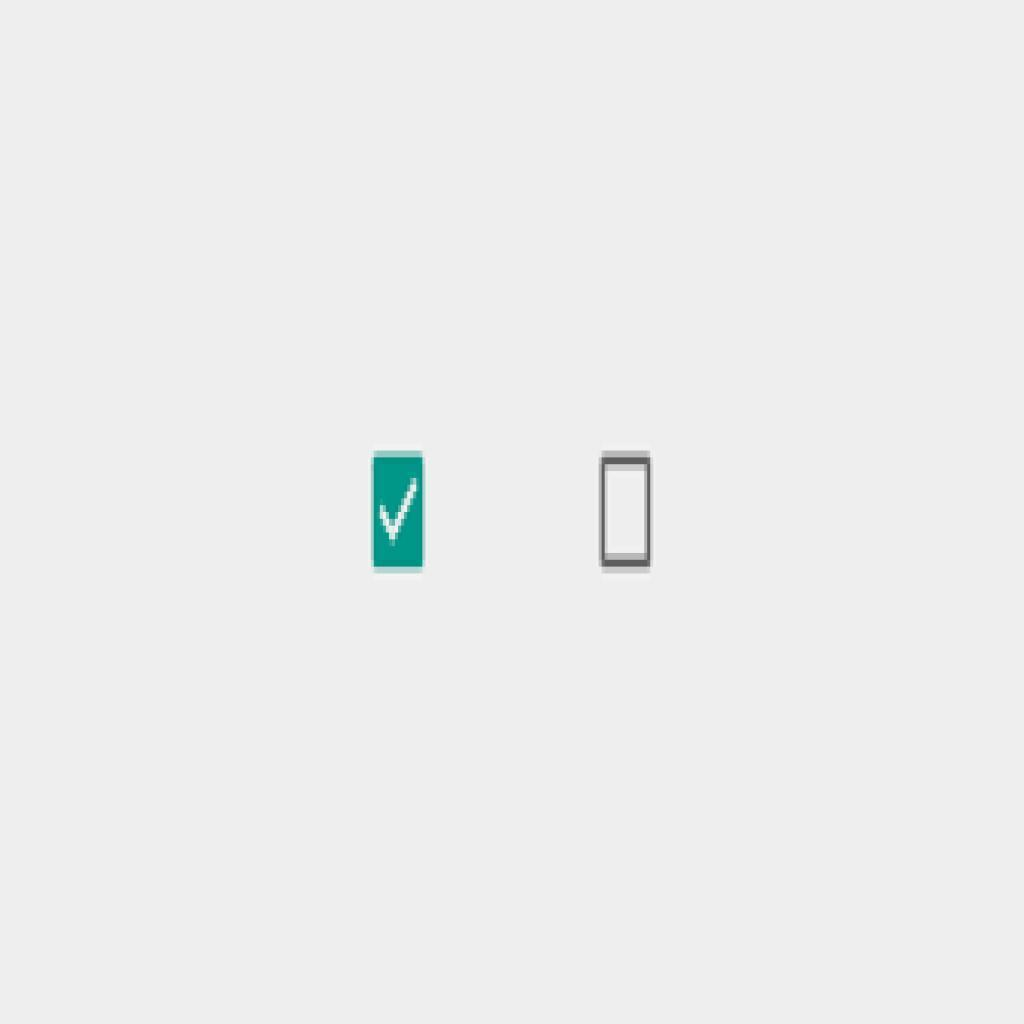checkbox: (374, 453, 426, 572), (602, 460, 652, 567)
